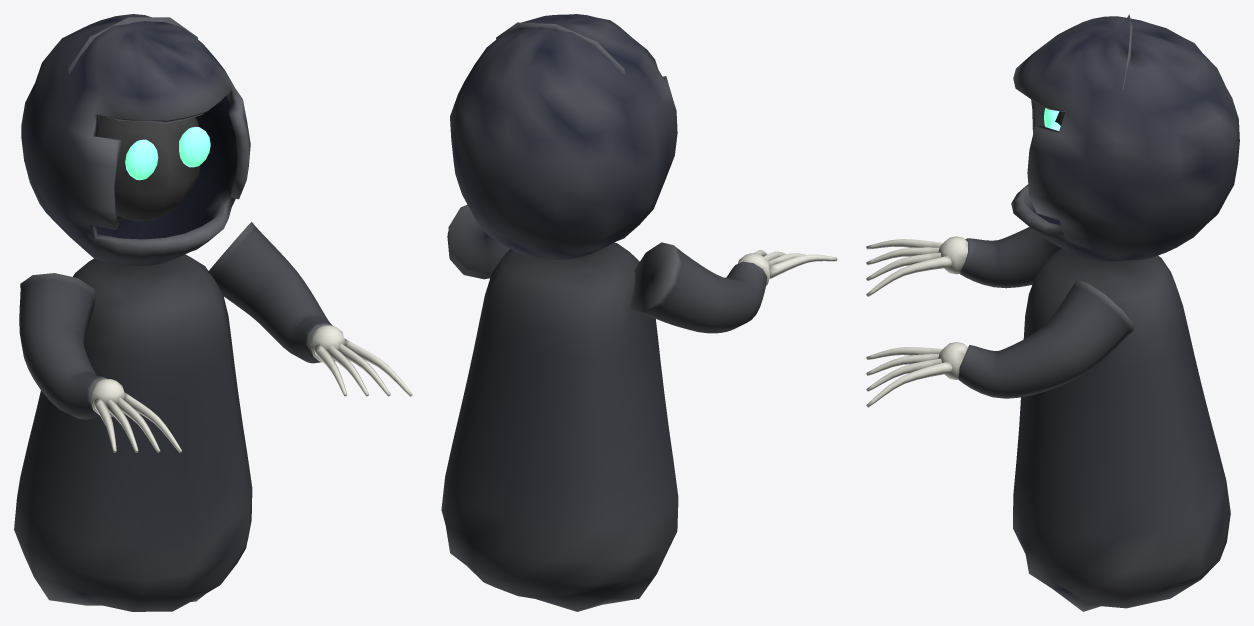
3 views of the same model, side by side, from view 1: azimuth 30°, elevation 25°; view 2: azimuth 150°, elevation 25°; view 3: azimuth 270°, elevation 25° (orthographic).
Parts seen in each view (by area): view 1: torso, armR, armL; view 2: torso, armR, armL; view 3: torso, armL, armR.
Part boxes in pixels (bbox=[...]): torso: bbox=[14, 14, 252, 611]; armR: bbox=[19, 273, 181, 452]; armL: bbox=[208, 222, 412, 396]; torso: bbox=[441, 14, 678, 611]; armR: bbox=[630, 242, 837, 333]; armL: bbox=[447, 204, 509, 279]; torso: bbox=[1011, 14, 1239, 611]; armL: bbox=[866, 280, 1133, 407]; armR: bbox=[866, 227, 1061, 296].
Size of the model in its own units: 0.5716 by 1.05 by 0.6281.
